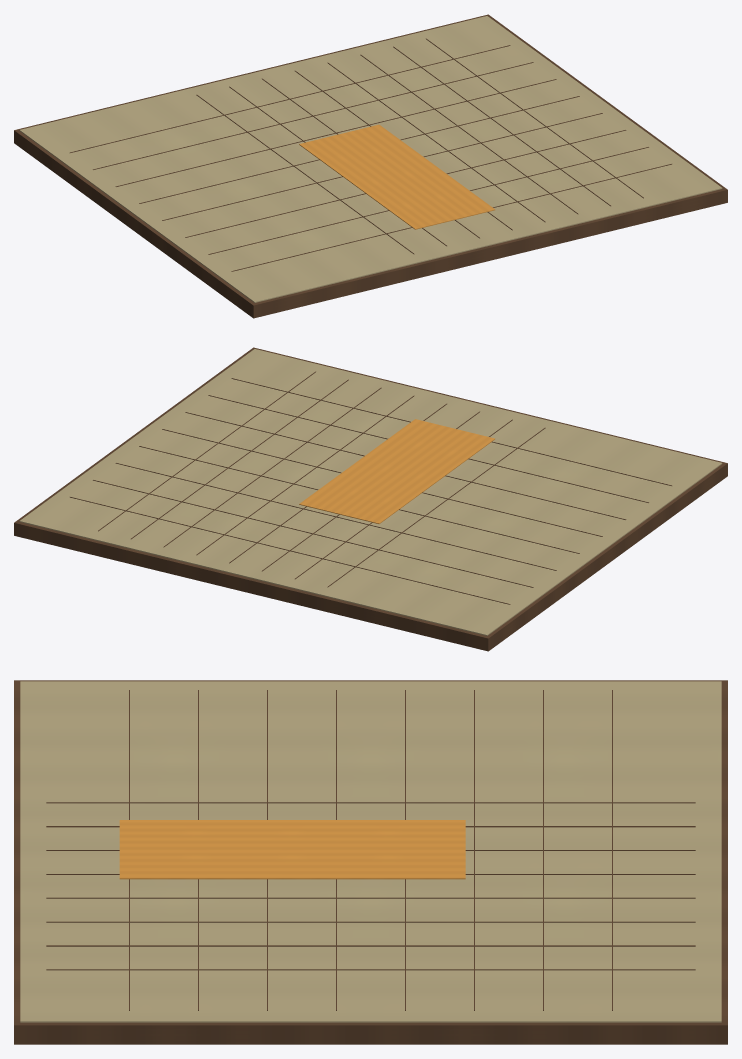
Rendered from atlas100-s011-a07.lod1.glb.
3 renders of one model, top to bottom at view 1: azimuth 30°, elevation 25°; view 2: azimuth 150°, elevation 25°; view 3: azimuth 270°, elevation 25°, orthographic. The views are drawn at different scales.
Parts seen in each view (by area): view 1: atlas100-s011-a07:part-001, atlas100-s011-a07:part-000, atlas100-s011-a07:part-021, atlas100-s011-a07:part-013, atlas100-s011-a07:part-014, atlas100-s011-a07:part-015, atlas100-s011-a07:part-020, atlas100-s011-a07:part-018, atlas100-s011-a07:part-019, atlas100-s011-a07:part-017, atlas100-s011-a07:part-016; view 2: atlas100-s011-a07:part-001, atlas100-s011-a07:part-000, atlas100-s011-a07:part-021, atlas100-s011-a07:part-013, atlas100-s011-a07:part-014, atlas100-s011-a07:part-015, atlas100-s011-a07:part-019, atlas100-s011-a07:part-020, atlas100-s011-a07:part-016, atlas100-s011-a07:part-018, atlas100-s011-a07:part-017; view 3: atlas100-s011-a07:part-001, atlas100-s011-a07:part-000, atlas100-s011-a07:part-021, atlas100-s011-a07:part-010, atlas100-s011-a07:part-011, atlas100-s011-a07:part-012, atlas100-s011-a07:part-005, atlas100-s011-a07:part-009, atlas100-s011-a07:part-006.
Boxes of the visible parts, x1,y1,x2,y2 form: atlas100-s011-a07:part-001: (19,16,722,302); atlas100-s011-a07:part-000: (14,14,727,318); atlas100-s011-a07:part-021: (299,124,495,229); atlas100-s011-a07:part-013: (70,45,510,152); atlas100-s011-a07:part-014: (93,62,533,169); atlas100-s011-a07:part-015: (115,79,556,186); atlas100-s011-a07:part-020: (231,164,671,271); atlas100-s011-a07:part-018: (185,130,626,237); atlas100-s011-a07:part-019: (208,147,648,254); atlas100-s011-a07:part-017: (162,113,602,220); atlas100-s011-a07:part-016: (139,96,579,203); atlas100-s011-a07:part-001: (19,349,722,635); atlas100-s011-a07:part-000: (14,347,727,651); atlas100-s011-a07:part-021: (299,419,494,523); atlas100-s011-a07:part-013: (70,497,510,604); atlas100-s011-a07:part-014: (93,480,533,587); atlas100-s011-a07:part-015: (115,463,556,570); atlas100-s011-a07:part-019: (208,395,648,502); atlas100-s011-a07:part-020: (231,378,671,485); atlas100-s011-a07:part-016: (139,446,579,553); atlas100-s011-a07:part-018: (185,412,626,519); atlas100-s011-a07:part-017: (162,429,602,536); atlas100-s011-a07:part-001: (20,681,721,1022); atlas100-s011-a07:part-000: (14,680,727,1044); atlas100-s011-a07:part-021: (119,820,465,879); atlas100-s011-a07:part-010: (46,921,695,922); atlas100-s011-a07:part-011: (46,945,695,946); atlas100-s011-a07:part-012: (46,969,695,970); atlas100-s011-a07:part-005: (46,802,695,803); atlas100-s011-a07:part-009: (46,897,695,898); atlas100-s011-a07:part-006: (46,826,695,827).
Size of the model in its own units: 13.02 by 0.404 by 11.39.
Materials: 3 (3 with a texture image).
